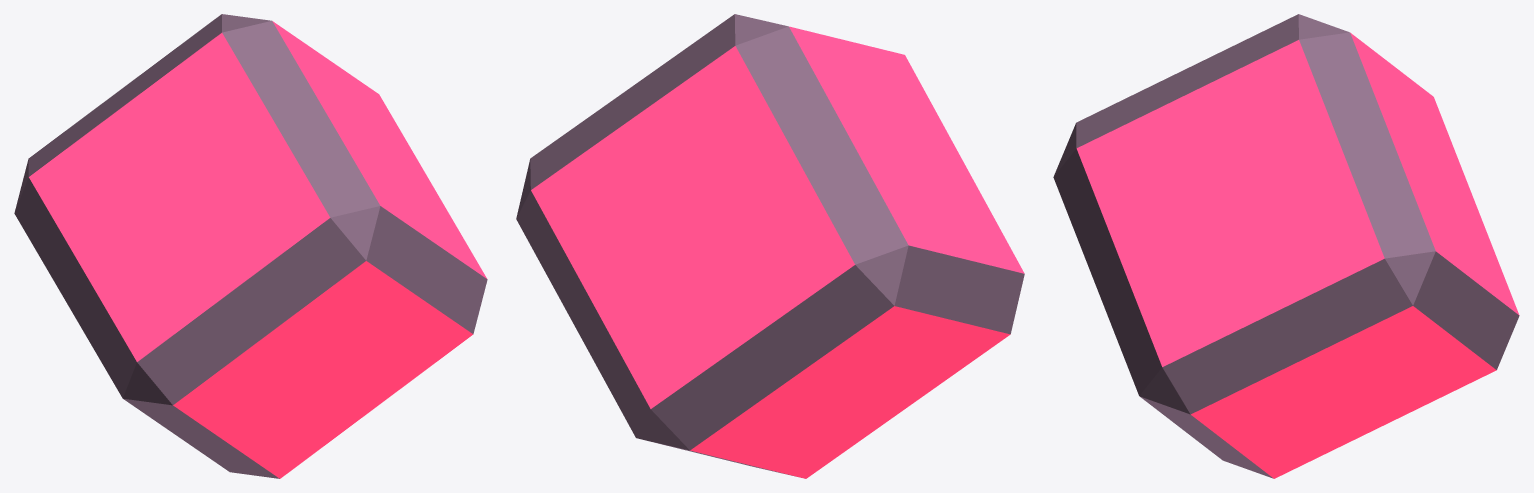
Rendered from WeaponPickUp.fbx.
3 views of the same model, side by side, from view 1: azimuth 30°, elevation 25°; view 2: azimuth 150°, elevation 25°; view 3: azimuth 270°, elevation 25° (orthographic). The views are drawn at different scales.
Parts seen in each view (by area): view 1: EnergyPickUp; view 2: EnergyPickUp; view 3: EnergyPickUp.
Part boxes in pixels (x1,y1,x2,y2): EnergyPickUp: [14, 14, 487, 478]; EnergyPickUp: [516, 14, 1024, 478]; EnergyPickUp: [1053, 14, 1519, 478].
Bounding box in the file's own units: 248 × 289 × 277.
